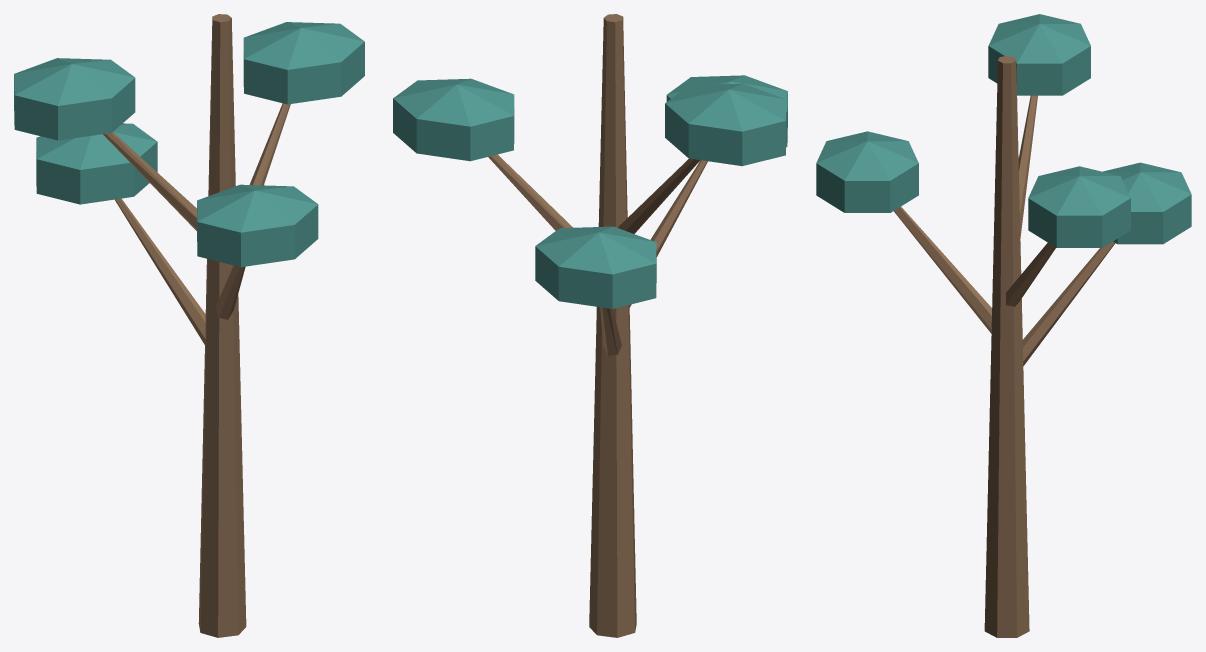
The model's file is Nature_Alien_Tree_03.glb.
The picture shows the model from 3 angles, left to right: view 1: azimuth 30°, elevation 25°; view 2: azimuth 150°, elevation 25°; view 3: azimuth 270°, elevation 25°; orthographic projection. The views are drawn at different scales.
Parts seen in each view (by area): view 1: Nature_Alien_Tree_03; view 2: Nature_Alien_Tree_03; view 3: Nature_Alien_Tree_03.
Boxes of the visible parts, x1=… form: Nature_Alien_Tree_03: x1=14, y1=14, x2=364, y2=637; Nature_Alien_Tree_03: x1=393, y1=14, x2=787, y2=637; Nature_Alien_Tree_03: x1=816, y1=14, x2=1191, y2=637.
Bounding box in the file's own units: 1.85 × 3 × 1.79.
